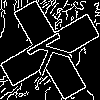K: (25, 25, 82, 77)
